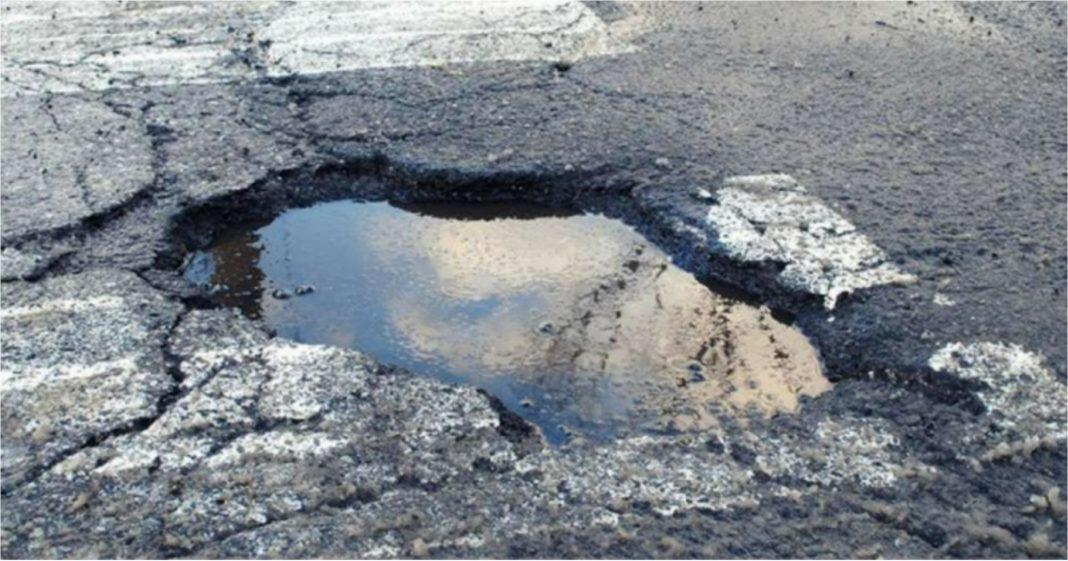Pothole: (37, 107, 912, 488)
